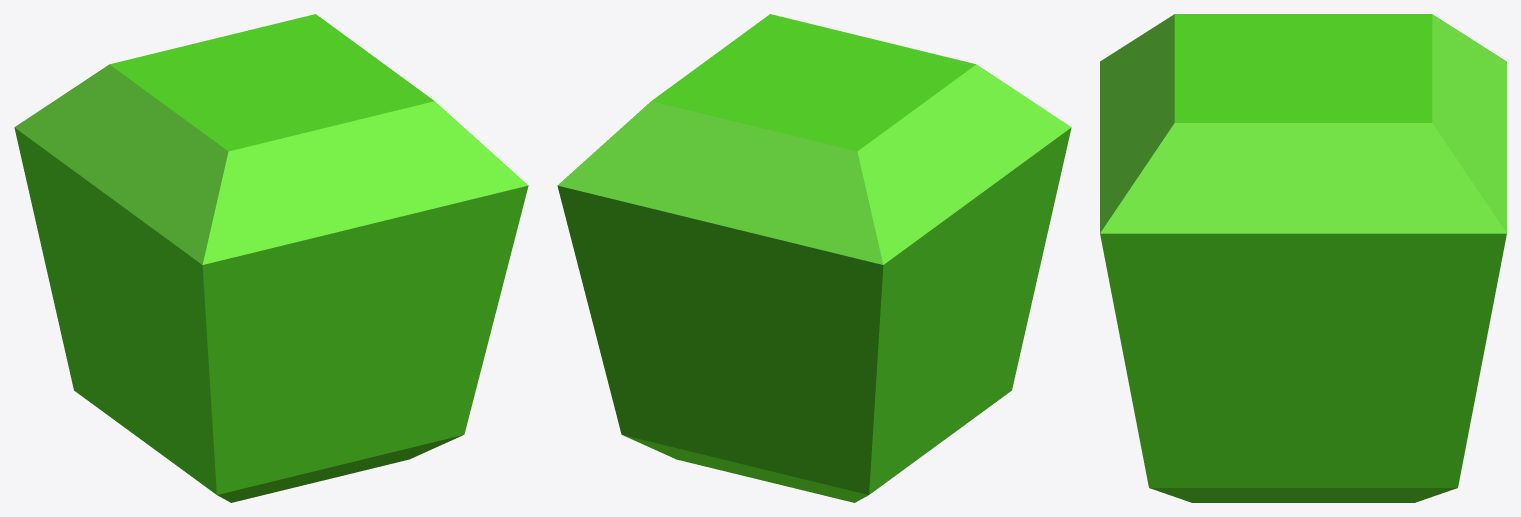
File: CyristalPa2rt.fbx
The picture shows the model from 3 angles, left to right: view 1: azimuth 30°, elevation 25°; view 2: azimuth 150°, elevation 25°; view 3: azimuth 270°, elevation 25°; orthographic projection. The views are drawn at different scales.
Visible parts, largest first — view 1: Cyristal_Part; view 2: Cyristal_Part; view 3: Cyristal_Part.
Part boxes in pixels (<box>): Cyristal_Part: <box>14,14,528,502</box>; Cyristal_Part: <box>557,14,1071,502</box>; Cyristal_Part: <box>1100,14,1506,502</box>.
Bounding box in the file's own units: 0.3242 × 0.3422 × 0.3242.
